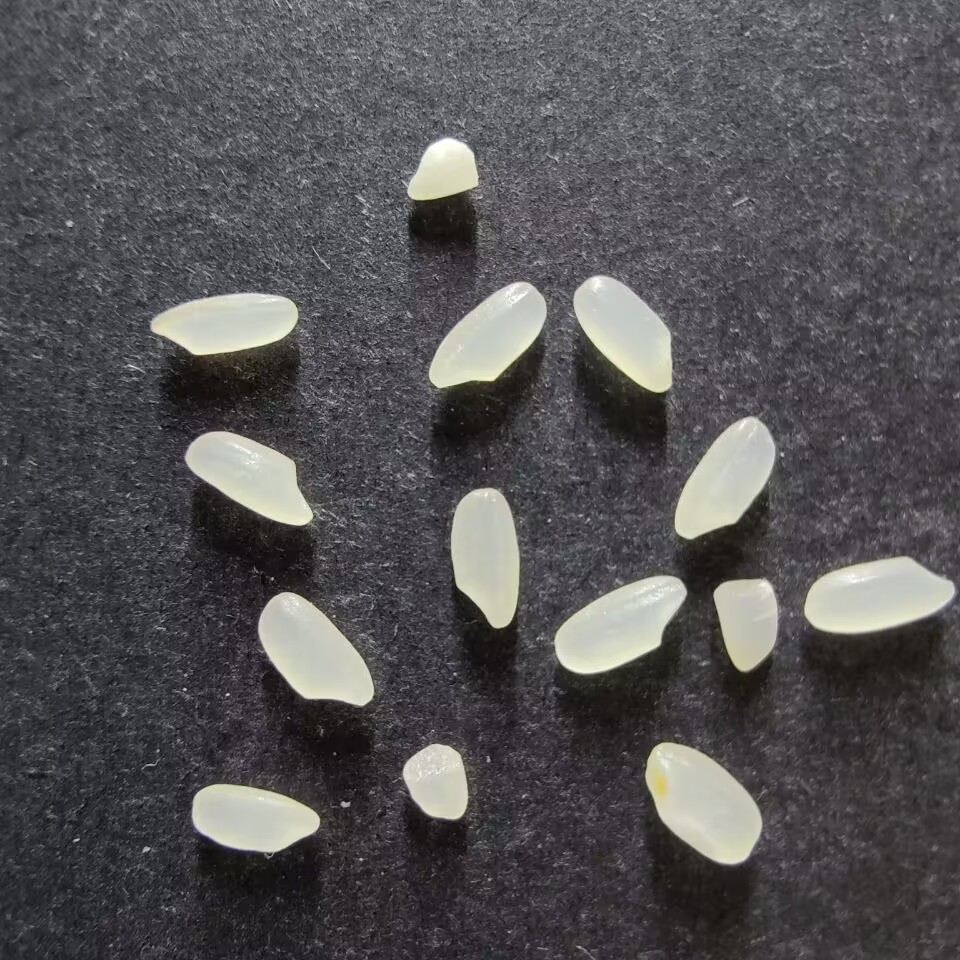broken: (712, 578, 778, 672), (401, 743, 468, 820), (406, 138, 479, 201)
rice: (644, 742, 762, 864), (257, 591, 373, 707), (555, 574, 686, 674), (428, 281, 547, 389), (183, 430, 314, 526), (673, 417, 776, 539), (572, 275, 673, 392), (803, 556, 955, 633), (449, 488, 520, 629), (149, 292, 298, 356), (190, 784, 320, 852)
